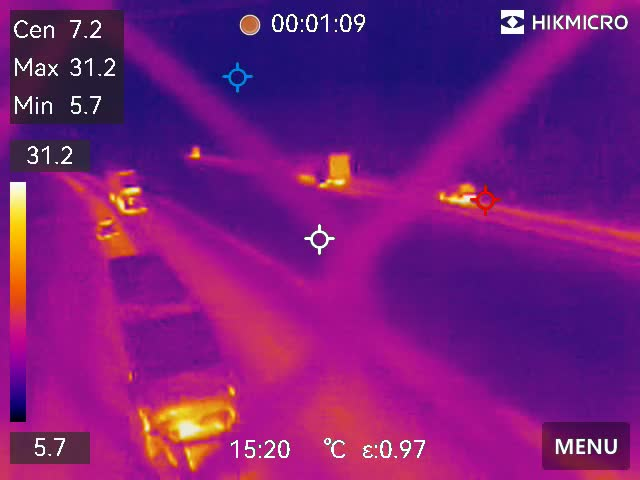heavyTruck: (101, 254, 261, 467), (98, 161, 153, 217), (291, 150, 355, 189)
